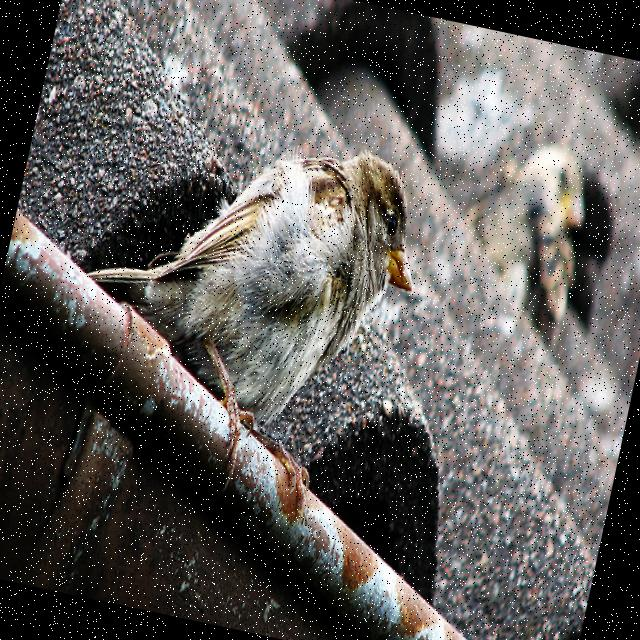bird: (50, 96, 441, 506), (480, 134, 631, 336)
